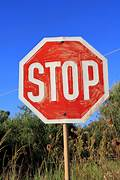stop: (18, 36, 109, 123)
